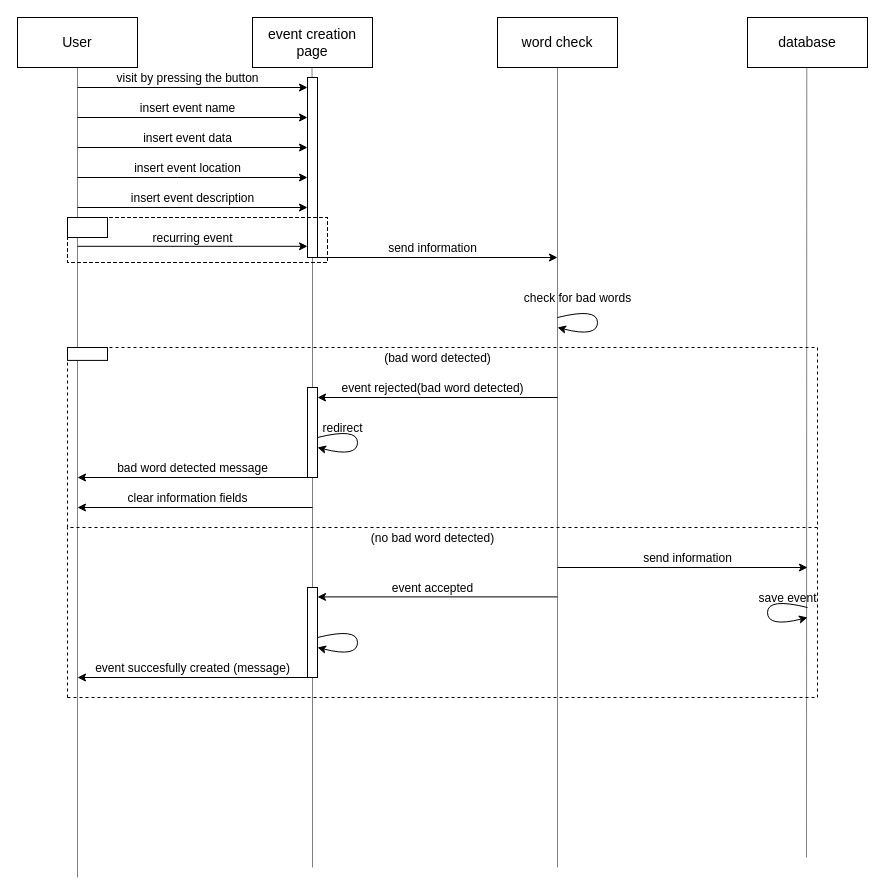
Some shapes in this 885 by 896 pixel diagram are drawn without their labels. Each missing label, with the centre of its shape:
"alt" goes at (x=87, y=353).
"opt" goes at (x=87, y=227).
